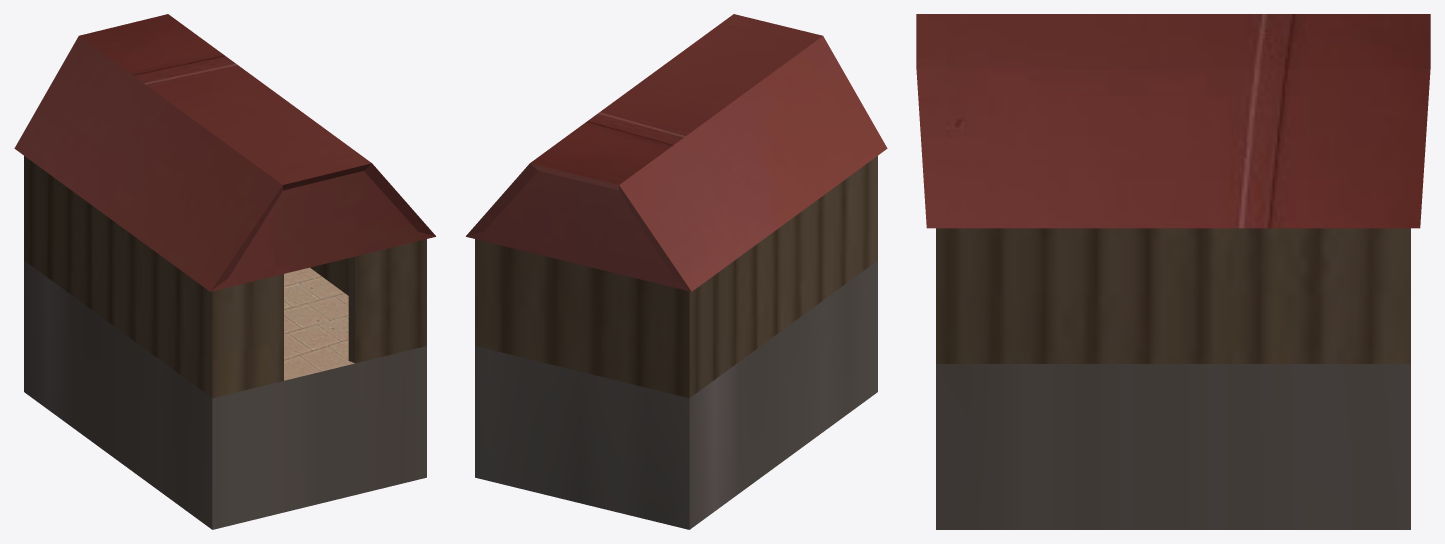
File: newspaperhouse.obj
3 views of the same model, side by side, from view 1: azimuth 30°, elevation 25°; view 2: azimuth 150°, elevation 25°; view 3: azimuth 270°, elevation 25° (orthographic). The views are drawn at different scales.
Visible parts, largest first — view 1: Cube.013_Cube.013_red_roofed_house; view 2: Cube.013_Cube.013_red_roofed_house; view 3: Cube.013_Cube.013_red_roofed_house.
Boxes of the visible parts, x1,y1,x2,y2 form: Cube.013_Cube.013_red_roofed_house: [14, 14, 435, 529]; Cube.013_Cube.013_red_roofed_house: [466, 14, 887, 529]; Cube.013_Cube.013_red_roofed_house: [916, 14, 1430, 529].
Size of the model in its own units: 8.28 by 11.72 by 12.92.
